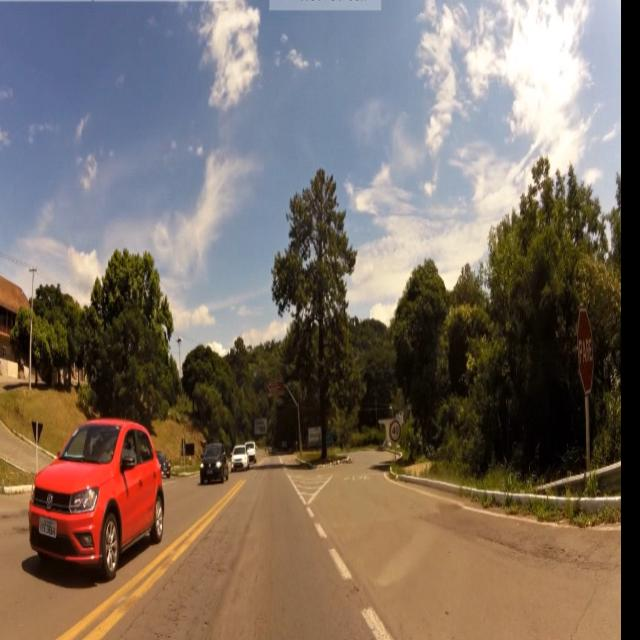R-1: (576, 304, 601, 401)
